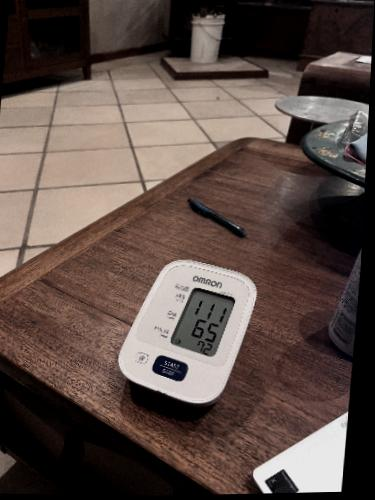bpm: (168, 282, 236, 359)
